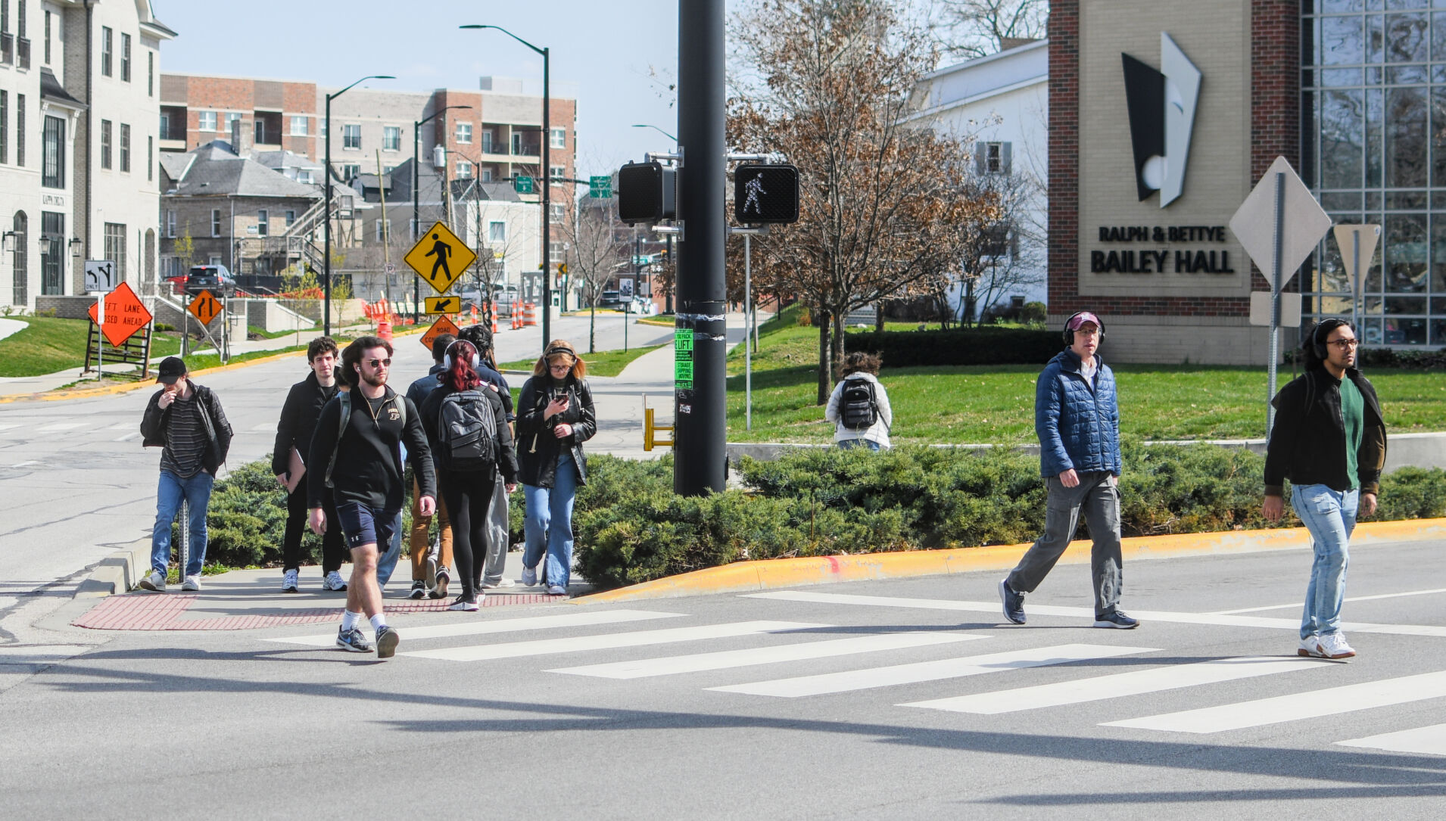CrossSign: (394, 218, 479, 297)
Crosswalk: (511, 589, 1446, 794)
Person: (1019, 313, 1142, 634), (324, 323, 419, 672), (1292, 312, 1373, 670), (516, 334, 600, 599), (140, 355, 229, 599)
